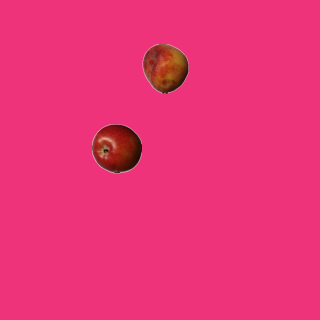Apple Braeburn: (91, 123, 141, 173)
Peach: (140, 43, 190, 93)
